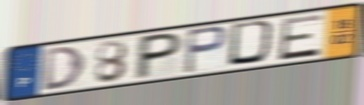8: (92, 39, 128, 84)
D: (225, 18, 281, 68), (42, 44, 87, 93)
E: (276, 12, 326, 62)
P: (131, 31, 186, 82), (181, 24, 229, 75)
